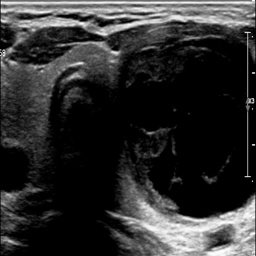mass: (119, 28, 256, 218)
